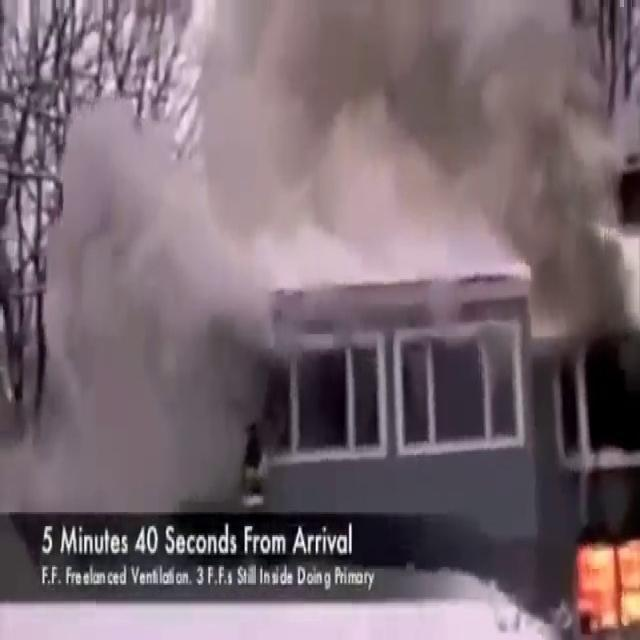Smoke: (7, 0, 605, 272)
